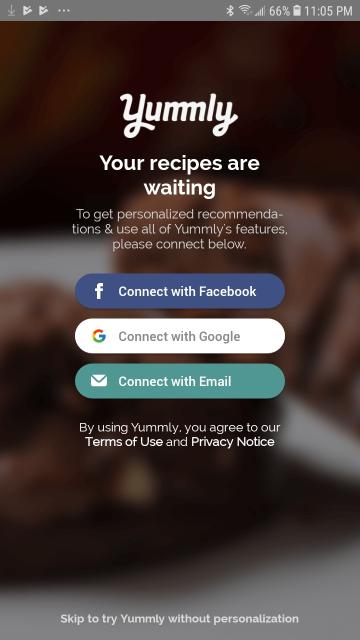BackgroundImage: (0, 21, 360, 639)
Icon: (90, 374, 108, 386), (95, 282, 103, 300)
Image: (120, 94, 238, 138), (93, 330, 106, 342)
Text: (72, 208, 286, 252), (99, 154, 259, 198), (80, 422, 280, 448), (61, 614, 299, 624), (118, 331, 240, 343), (119, 286, 256, 296), (119, 376, 231, 386)
TextImageButton: (75, 318, 285, 354), (75, 273, 285, 309), (75, 364, 285, 398)
UpperTaskBar: (0, 0, 359, 20)
